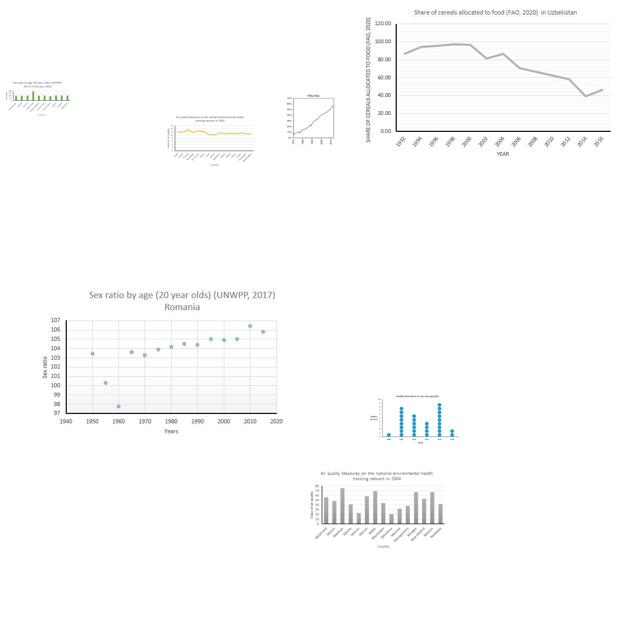Graph: (360, 5, 616, 160), (36, 284, 290, 439), (306, 469, 447, 551), (367, 392, 461, 447), (165, 114, 254, 168), (284, 93, 337, 146), (4, 80, 72, 117)
